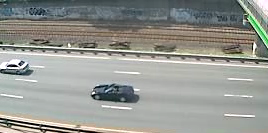car: (88, 79, 138, 104), (1, 57, 33, 76)
